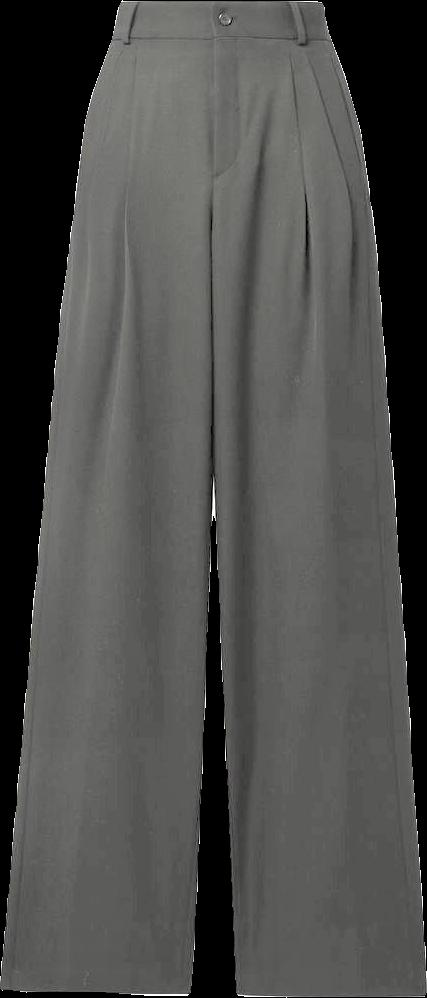Hemline: (0, 979, 192, 997), (236, 982, 426, 997)
Pantleg: (0, 2, 214, 996), (213, 0, 425, 996)
Waistline: (109, 30, 330, 49), (116, 0, 318, 11)
